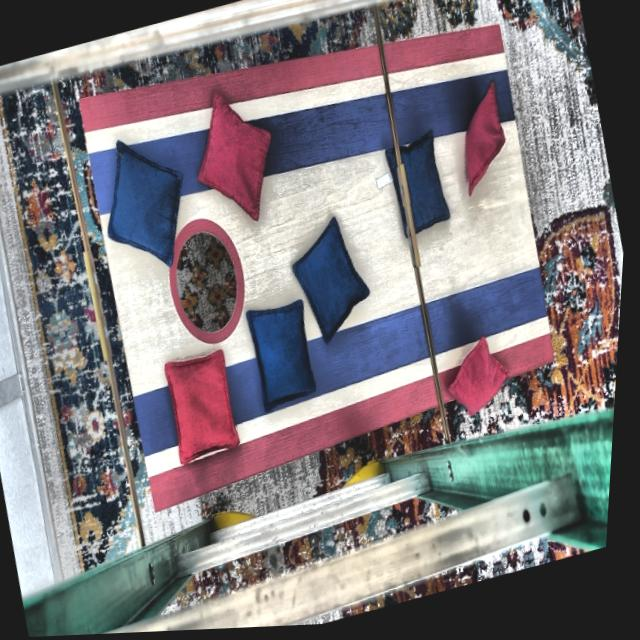blue-bean-bag: (87, 128, 204, 281), (282, 214, 386, 352), (245, 300, 325, 412), (379, 133, 459, 244)
board: (76, 27, 573, 473)
hole: (154, 207, 263, 355)
red-bean-bag: (178, 81, 292, 237), (161, 350, 249, 464), (439, 335, 521, 432), (448, 88, 518, 199)
